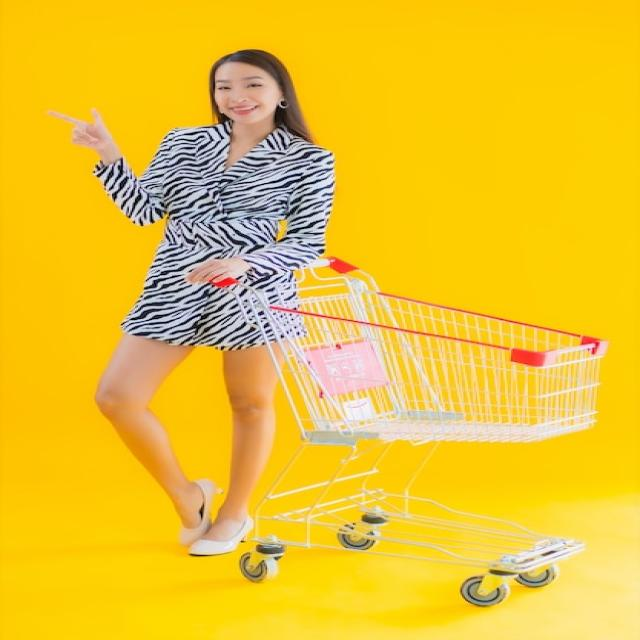Person: (50, 49, 336, 556)
